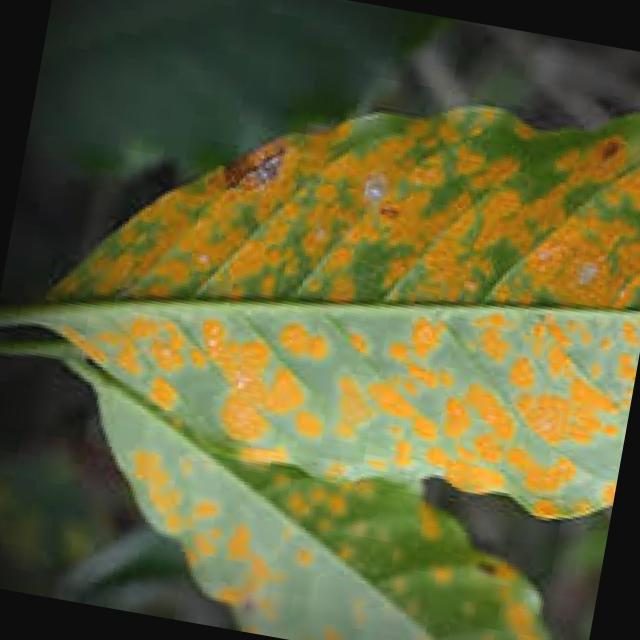leaf_rust: (0, 109, 640, 640)
